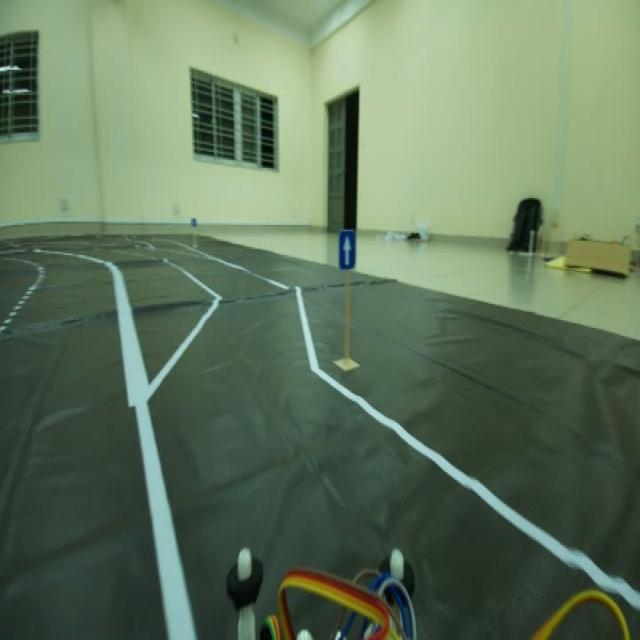onewayroad: (335, 228, 357, 268)
